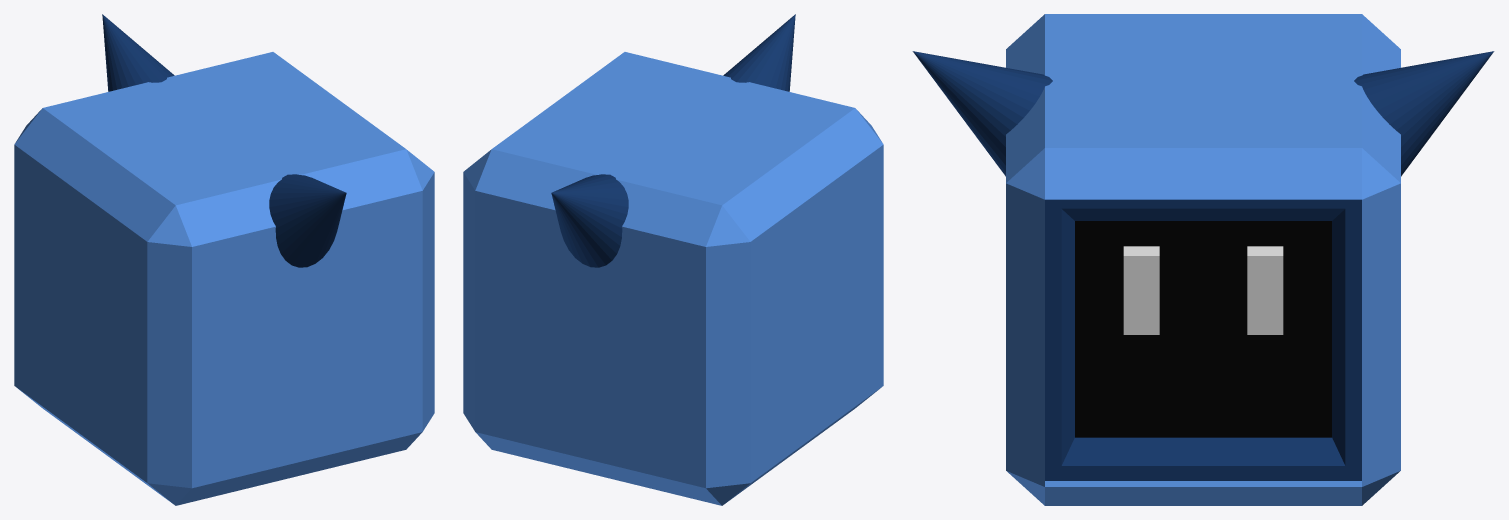
Rendered from Phobo.fbx.
3 views of the same model, side by side, from view 1: azimuth 30°, elevation 25°; view 2: azimuth 150°, elevation 25°; view 3: azimuth 270°, elevation 25° (orthographic). The views are drawn at different scales.
Visible parts, largest first — view 1: Cube, Cone; view 2: Cube, Cone; view 3: Cube, Cone, Cube.001.
Part boxes in pixels (x1,y1,x2,y2): Cube: [14, 52, 434, 505]; Cone: [102, 14, 346, 267]; Cube: [463, 52, 883, 505]; Cone: [551, 14, 795, 267]; Cube: [1006, 14, 1400, 505]; Cone: [912, 51, 1494, 176]; Cube.001: [1123, 246, 1283, 334].
Bounding box in the file's own units: 200 × 217 × 295.
